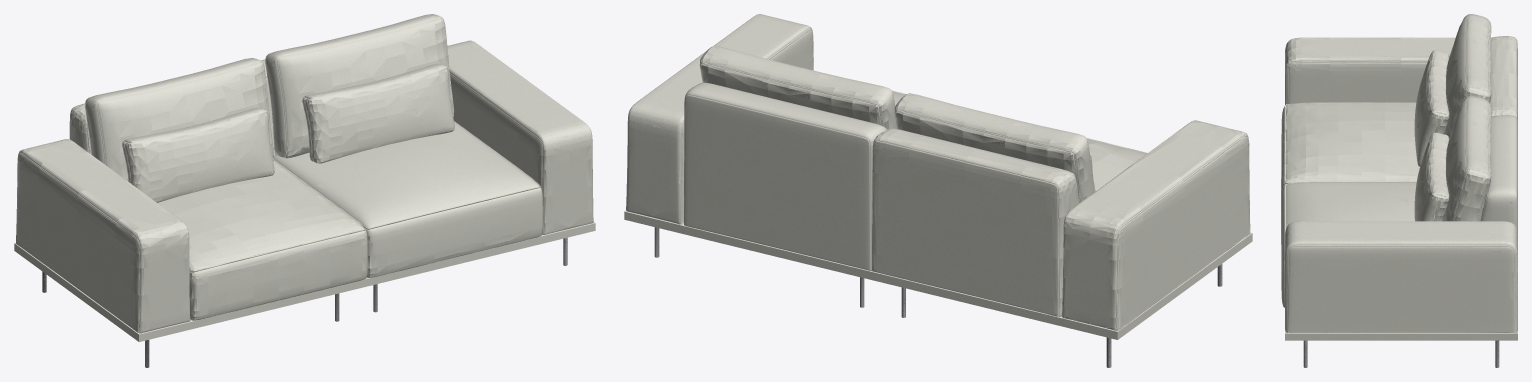
File: Double_Arm_2.glb
3 renders of one model, left to right at view 1: azimuth 30°, elevation 25°; view 2: azimuth 150°, elevation 25°; view 3: azimuth 270°, elevation 25°, orthographic. The views are drawn at different scales.
Parts seen in each view (by area): view 1: group_5, group_2, group_4, group_6, group_10, group_8, group_11, group_9, instance_0.004, group_3; view 2: group_3, group_7, group_2, group_6, group_8, group_10, instance_0.004, group_4, instance_0.005; view 3: group_6, group_4, group_2, group_5, group_10, group_8, group_7, group_9, group_11, group_3, instance_0.004, instance_0.005 (+1 smaller).
Boxes of the visible parts, x1=… form: group_5: x1=273, y1=121, x2=542, y2=277; group_2: x1=15, y1=139, x2=190, y2=333; group_4: x1=158, y1=160, x2=367, y2=320; group_6: x1=447, y1=40, x2=593, y2=234; group_10: x1=265, y1=14, x2=454, y2=158; group_8: x1=85, y1=58, x2=273, y2=181; group_11: x1=302, y1=63, x2=454, y2=163; group_9: x1=122, y1=107, x2=274, y2=202; instance_0.004: x1=14, y1=223, x2=595, y2=341; group_3: x1=69, y1=103, x2=91, y2=154; group_3: x1=872, y1=128, x2=1079, y2=316; group_7: x1=684, y1=82, x2=886, y2=270; group_2: x1=1061, y1=120, x2=1250, y2=330; group_6: x1=626, y1=14, x2=813, y2=224; group_8: x1=894, y1=93, x2=1094, y2=202; group_10: x1=699, y1=46, x2=897, y2=129; instance_0.004: x1=624, y1=211, x2=1252, y2=339; group_4: x1=1087, y1=138, x2=1147, y2=190; instance_0.005: x1=624, y1=210, x2=1252, y2=331; group_6: x1=1285, y1=221, x2=1517, y2=333; group_4: x1=1281, y1=102, x2=1419, y2=206; group_2: x1=1285, y1=37, x2=1455, y2=104; group_5: x1=1281, y1=182, x2=1416, y2=307; group_10: x1=1442, y1=96, x2=1491, y2=221; group_8: x1=1444, y1=14, x2=1491, y2=138; group_7: x1=1480, y1=115, x2=1517, y2=235; group_9: x1=1414, y1=50, x2=1449, y2=166; group_11: x1=1414, y1=132, x2=1449, y2=221; group_3: x1=1490, y1=36, x2=1517, y2=126; instance_0.004: x1=1285, y1=333, x2=1517, y2=340; instance_0.005: x1=1285, y1=330, x2=1517, y2=333.
Bounding box in the file's own units: 1.9 × 0.7709 × 0.9152.
5 materials, 4 textured.
